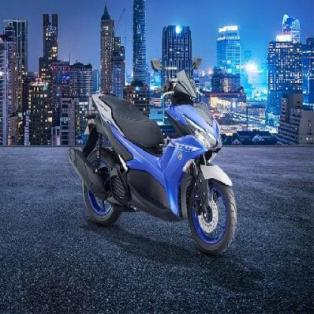Motocicleta: (65, 53, 241, 263)
